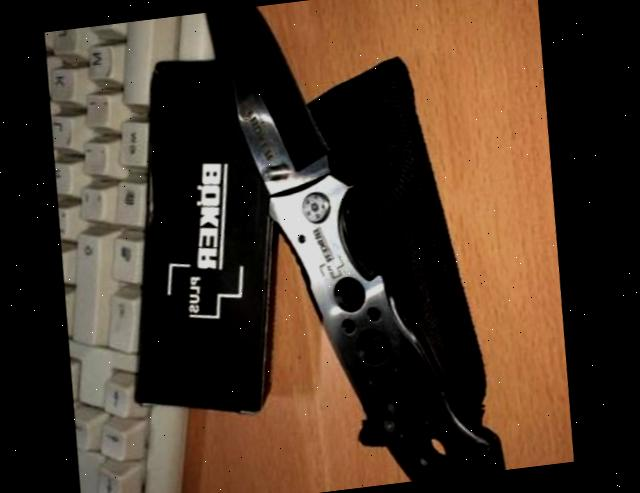pocket-knife: (183, 0, 371, 237)
